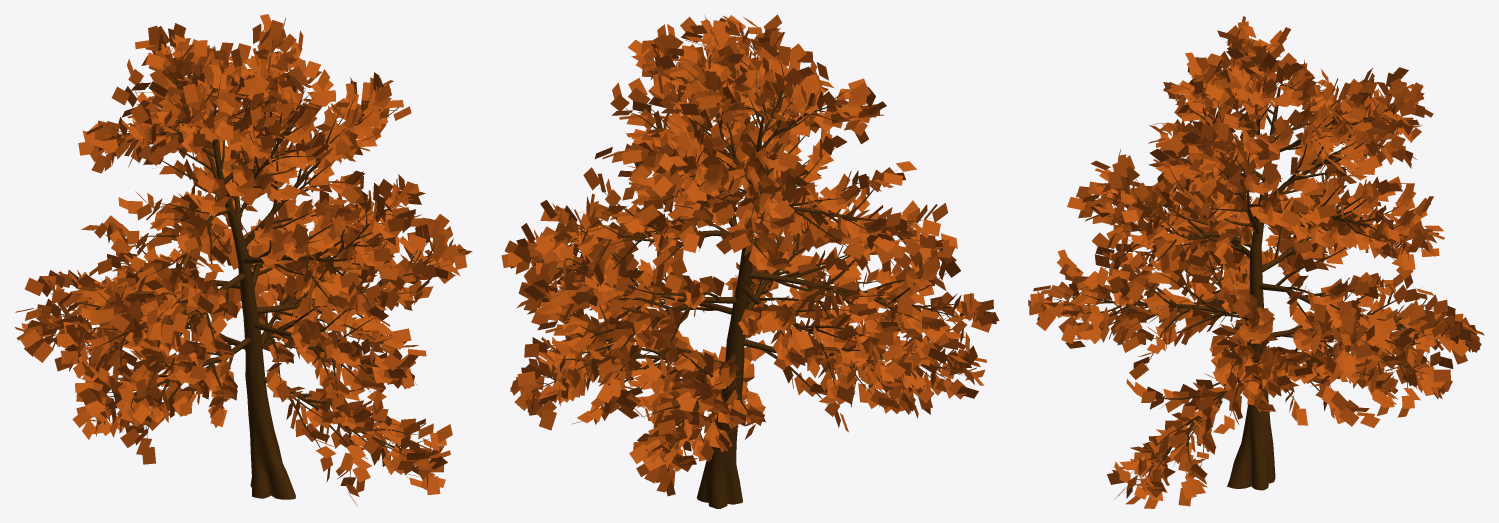
The model's file is arbol.FBX.
3 views of the same model, side by side, from view 1: azimuth 30°, elevation 25°; view 2: azimuth 150°, elevation 25°; view 3: azimuth 270°, elevation 25° (orthographic). The views are drawn at different scales.
Parts seen in each view (by area): view 1: Foliage001; view 2: Foliage001; view 3: Foliage001.
Boxes of the visible parts, box(x1,y1,x2,y2) form: Foliage001: box(15, 14, 472, 507); Foliage001: box(501, 14, 999, 508); Foliage001: box(1028, 16, 1484, 508).
Size of the model in its own units: 34.33 by 34.99 by 32.8.
